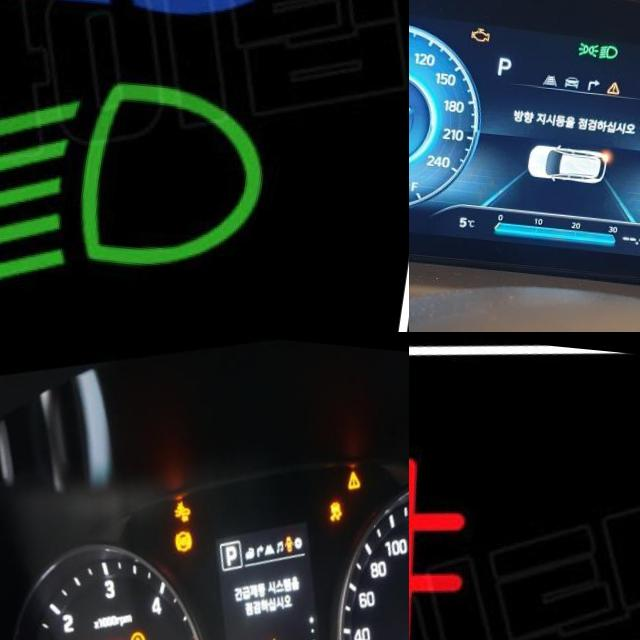Central Warning lamp: (612, 72, 628, 87)
Engine cooling system: (409, 415, 623, 640)
LaneCenteringOff: (548, 66, 565, 81)
Low beam: (0, 58, 286, 306), (603, 35, 624, 53)
SideLamp: (581, 33, 604, 51)
